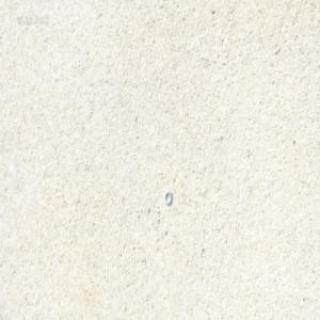Washertrack_idkeyframe: (164, 189, 172, 205)
